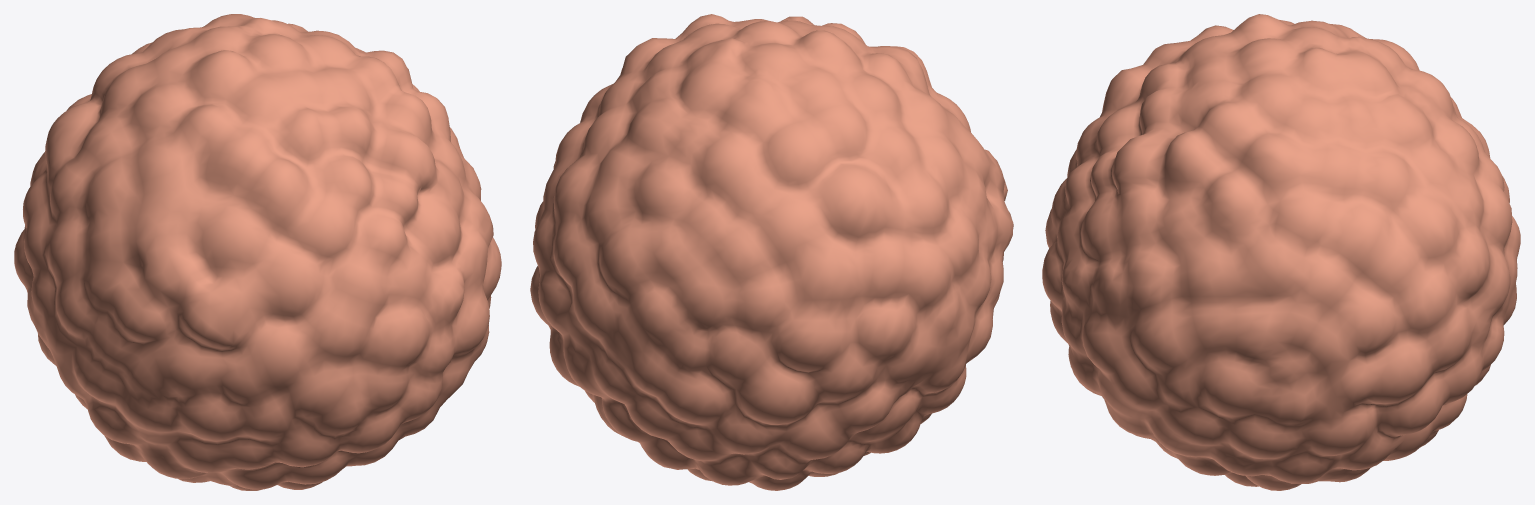
The model's file is semana1.glb.
3 views of the same model, side by side, from view 1: azimuth 30°, elevation 25°; view 2: azimuth 150°, elevation 25°; view 3: azimuth 270°, elevation 25° (orthographic).
Parts seen in each view (by area): view 1: Mesh1; view 2: Mesh1; view 3: Mesh1.
Boxes of the visible parts, <box> form: Mesh1: <box>14,14,501,490</box>; Mesh1: <box>530,14,1013,490</box>; Mesh1: <box>1042,14,1520,490</box>.
Bounding box in the file's own units: 1.95 × 2 × 1.99.
